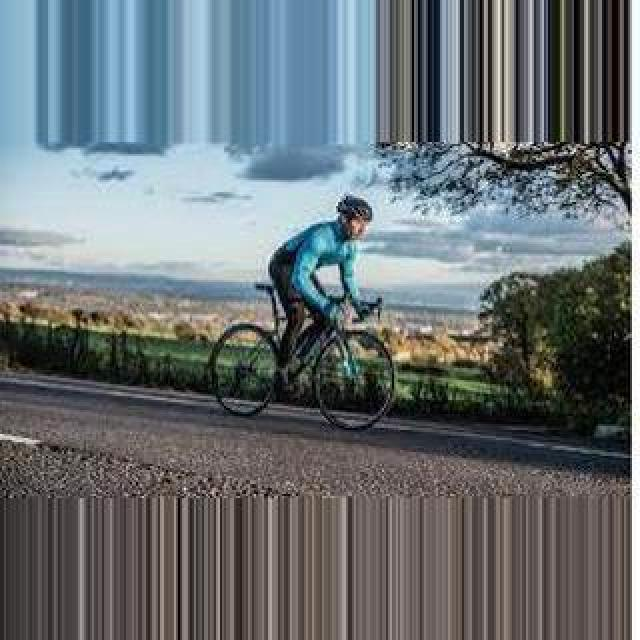MC-Bike: (268, 192, 382, 392)
Person: (209, 282, 397, 432)
